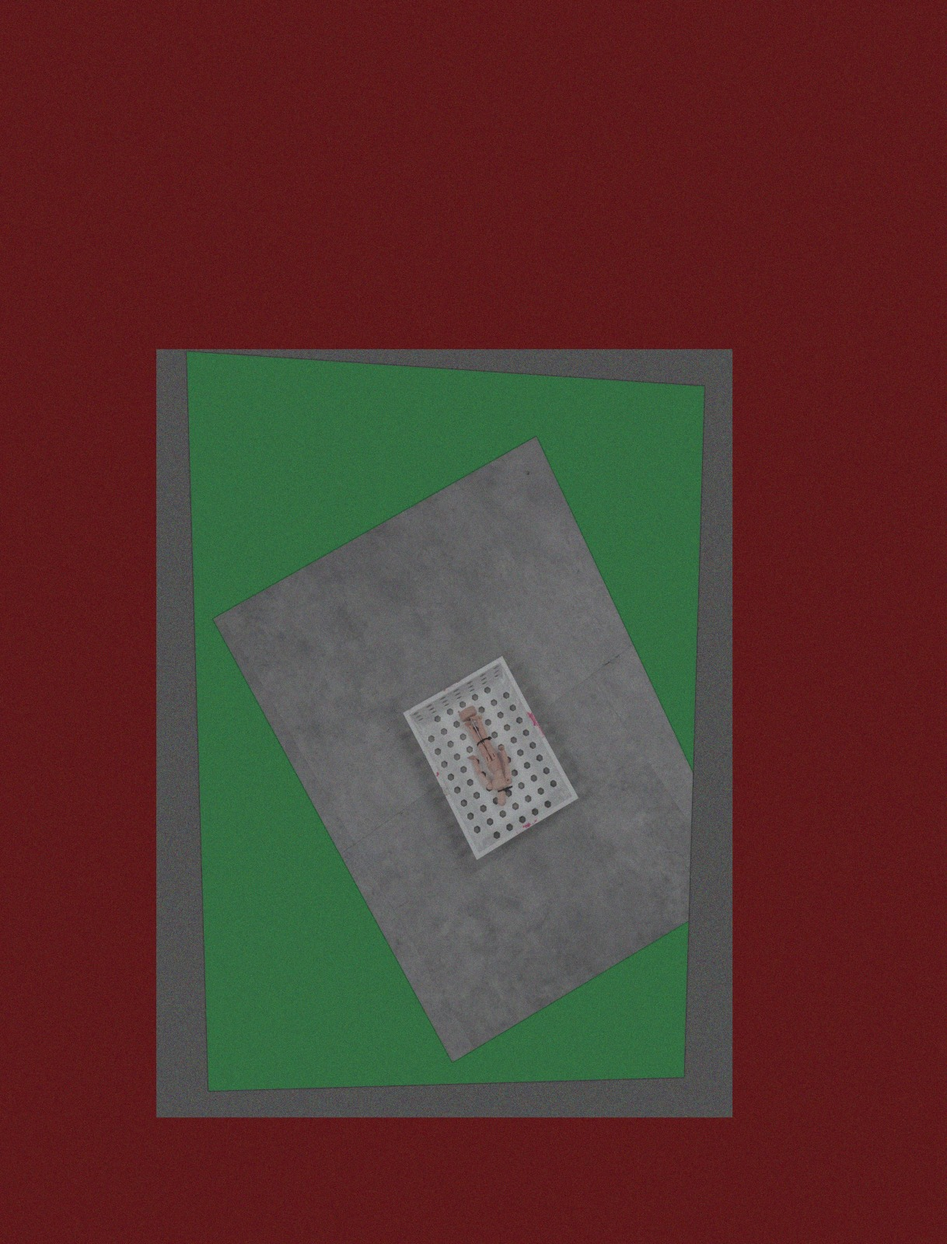basket: (397, 653, 585, 868)
mannequin: (453, 700, 517, 809)
